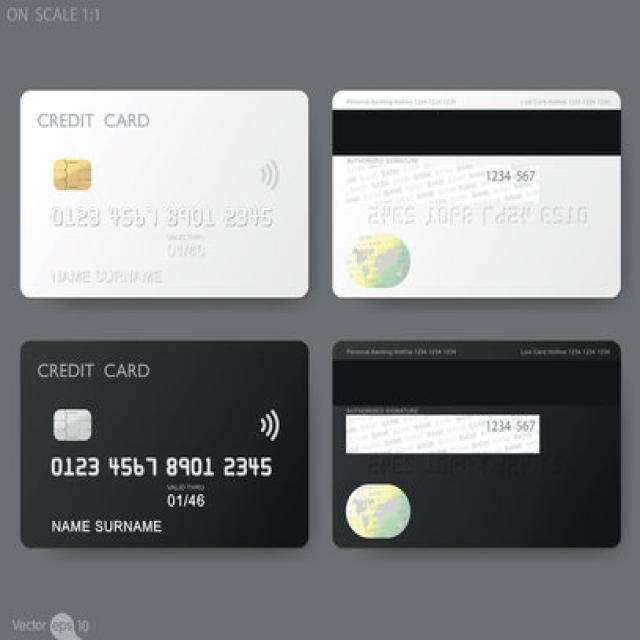payment_card: (331, 88, 625, 299), (18, 88, 309, 299), (331, 339, 621, 549), (18, 339, 309, 548)
